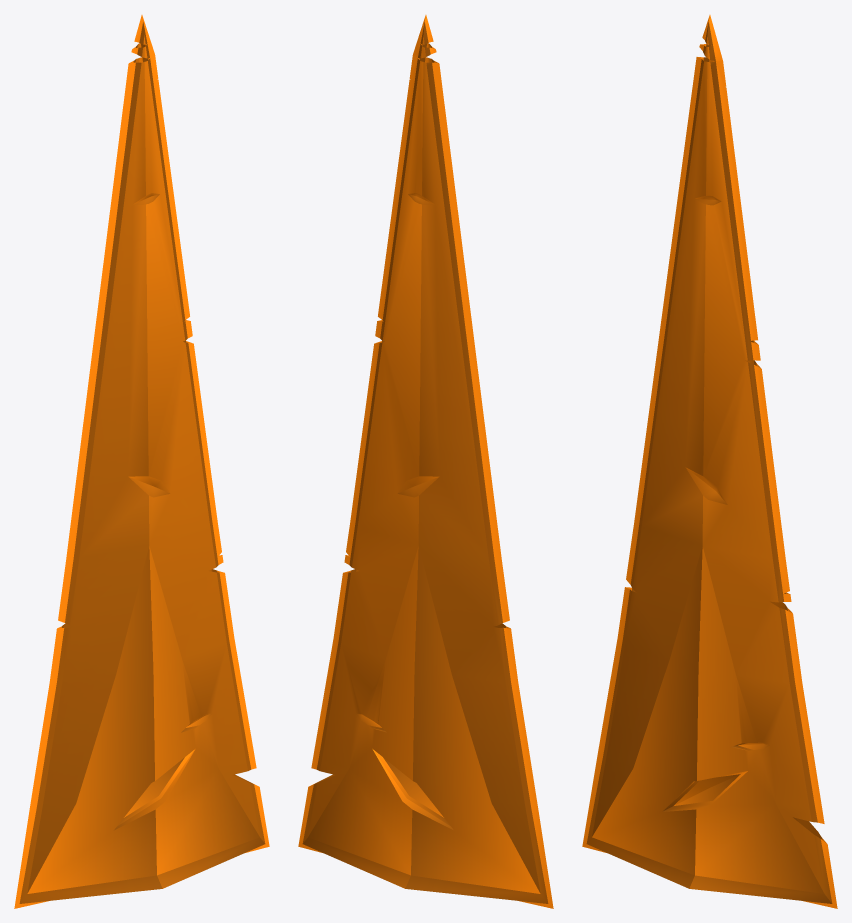
The model's file is bronze_blade_scratched_023.glb.
3 views of the same model, side by side, from view 1: azimuth 30°, elevation 25°; view 2: azimuth 150°, elevation 25°; view 3: azimuth 330°, elevation 25° (orthographic).
Visible parts, largest first — view 1: bronze_blade_scratched.023; view 2: bronze_blade_scratched.023; view 3: bronze_blade_scratched.023.
Boxes of the visible parts, left/top/right/bottom form: bronze_blade_scratched.023: left=14, top=15, right=269, bottom=908; bronze_blade_scratched.023: left=298, top=15, right=553, bottom=908; bronze_blade_scratched.023: left=582, top=15, right=837, bottom=908.
Bounding box in the file's own units: 3.52 × 11.43 × 0.9907.
Materials: 1 (1 with a texture image).
